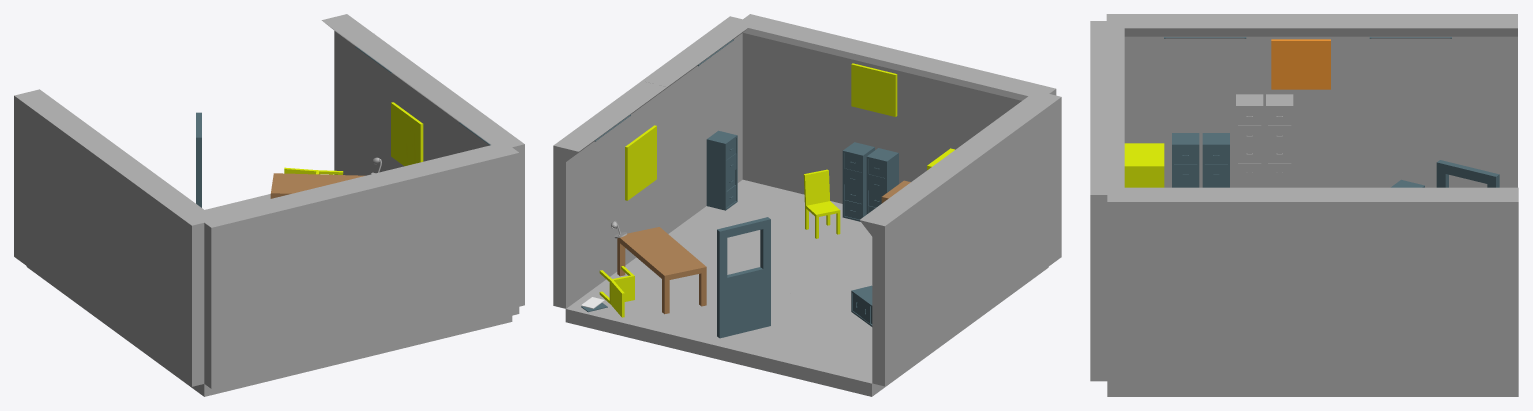
Rendered from Office.fbx.
The picture shows the model from 3 angles, left to right: view 1: azimuth 30°, elevation 25°; view 2: azimuth 150°, elevation 25°; view 3: azimuth 270°, elevation 25°; orthographic projection. The views are drawn at different scales.
Visible parts, largest first — view 1: BLD_wall_3x3_01_v1__2_, BLD_wall_3x3_01_v1__4_, BLD_wall_3x3_01_v1__1_, BLD_wall_3x3_01_v1, BLD_wall_3x3_01_v1__5_, BLD_wall_3x3_01_v1__3_, PROP_painting_01_v1_1, PROP_table_01_v1__1_, BLD_platform_01_v1__7_, BLD_platform_01_v1__6_, PROP_door_02_v1; view 2: BLD_wall_3x3_01_v1__4_, BLD_wall_3x3_01_v1, BLD_wall_3x3_01_v1__1_, BLD_wall_3x3_01_v1__5_, BLD_wall_3x3_01_v1__3_, BLD_wall_3x3_01_v1__2_, BLD_platform_01_v1__5_, BLD_platform_01_v1__3_, BLD_platform_01_v1, PROP_door_02_v1, BLD_platform_01_v1__6_, PROP_table_01_v1__1_ (+11 smaller); view 3: BLD_wall_3x3_01_v1__3_, BLD_wall_3x3_01_v1__5_, BLD_wall_3x3_01_v1, BLD_wall_3x3_01_v1__1_, BLD_wall_3x3_01_v1__4_, PROP_painting_01_v1__1_, BLD_wall_3x3_01_v1__2_, PROP_binder_02_v1__1_, PROP_binder_02_v1, PROP_box_03_v1, PROP_binder_01_v1__2_, PROP_binder_01_v1 (+5 smaller).
Boxes of the visible parts, bbox=[...] form: BLD_wall_3x3_01_v1__2_: bbox=[197, 179, 365, 388]; BLD_wall_3x3_01_v1__4_: bbox=[351, 145, 519, 351]; BLD_wall_3x3_01_v1__1_: bbox=[103, 154, 216, 386]; BLD_wall_3x3_01_v1: bbox=[14, 89, 128, 321]; BLD_wall_3x3_01_v1__5_: bbox=[321, 14, 435, 175]; BLD_wall_3x3_01_v1__3_: bbox=[411, 79, 524, 306]; PROP_painting_01_v1_1: bbox=[391, 102, 423, 166]; PROP_table_01_v1__1_: bbox=[270, 173, 365, 198]; BLD_platform_01_v1__7_: bbox=[160, 353, 358, 396]; BLD_platform_01_v1__6_: bbox=[358, 316, 512, 359]; PROP_door_02_v1: bbox=[196, 112, 201, 207]; BLD_wall_3x3_01_v1__4_: bbox=[742, 14, 902, 203]; BLD_wall_3x3_01_v1: bbox=[859, 155, 973, 386]; BLD_wall_3x3_01_v1__1_: bbox=[948, 91, 1061, 321]; BLD_wall_3x3_01_v1__5_: bbox=[553, 81, 666, 308]; BLD_wall_3x3_01_v1__3_: bbox=[642, 16, 755, 233]; BLD_wall_3x3_01_v1__2_: bbox=[889, 51, 1056, 183]; BLD_platform_01_v1__5_: bbox=[719, 316, 915, 396]; BLD_platform_01_v1__3_: bbox=[565, 276, 733, 359]; BLD_platform_01_v1: bbox=[668, 212, 850, 281]; PROP_door_02_v1: bbox=[717, 217, 770, 338]; BLD_platform_01_v1__6_: bbox=[699, 179, 870, 249]; PROP_table_01_v1__1_: bbox=[617, 227, 706, 314]; BLD_wall_3x3_01_v1__3_: bbox=[1107, 187, 1312, 388]; BLD_wall_3x3_01_v1__5_: bbox=[1313, 187, 1518, 388]; BLD_wall_3x3_01_v1: bbox=[1312, 14, 1517, 187]; BLD_wall_3x3_01_v1__1_: bbox=[1106, 14, 1312, 187]; BLD_wall_3x3_01_v1__4_: bbox=[1090, 108, 1124, 381]; PROP_painting_01_v1__1_: bbox=[1271, 39, 1330, 89]; BLD_wall_3x3_01_v1__2_: bbox=[1090, 21, 1124, 107]; PROP_binder_02_v1__1_: bbox=[1266, 94, 1293, 187]; PROP_binder_02_v1: bbox=[1236, 94, 1263, 187]; PROP_box_03_v1: bbox=[1124, 143, 1164, 187]; PROP_binder_01_v1__2_: bbox=[1202, 133, 1229, 187]; PROP_binder_01_v1: bbox=[1172, 133, 1199, 187].
Bounding box in the file's own units: 649 × 325 × 625.
